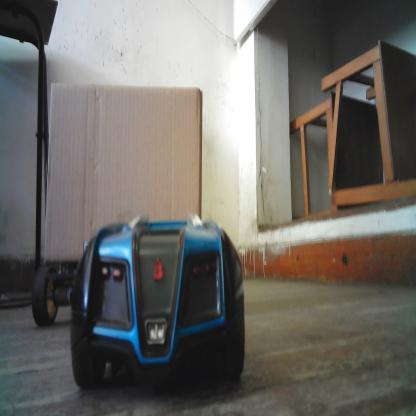LeadTruck: (39, 88, 203, 285)
